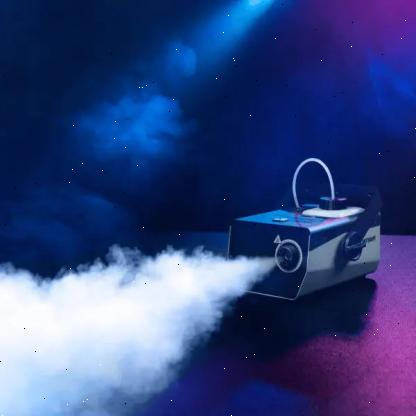smoke: (2, 250, 286, 416), (1, 40, 199, 269)
